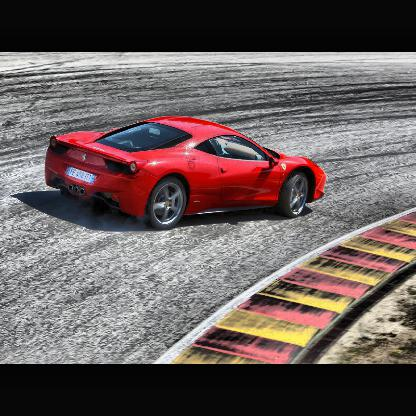Ferrari 458 Italia Coupe 2012: (44, 114, 330, 239)
